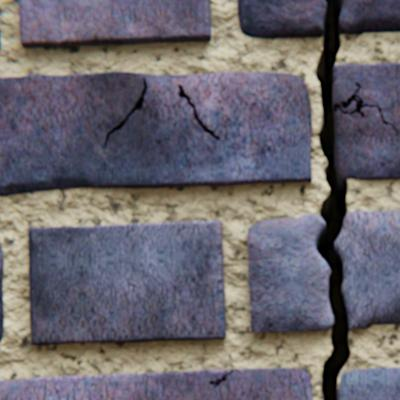brick: (0, 73, 311, 196), (30, 221, 226, 345), (0, 368, 312, 399), (20, 0, 211, 49), (332, 64, 399, 180), (338, 367, 399, 399), (0, 239, 5, 343), (341, 102, 355, 112), (0, 25, 1, 51)
broken_brick: (248, 214, 332, 331), (335, 211, 399, 328), (238, 0, 326, 39), (339, 0, 399, 35)
crack: (314, 0, 398, 399), (104, 78, 147, 147), (178, 85, 219, 141), (208, 369, 238, 386)
